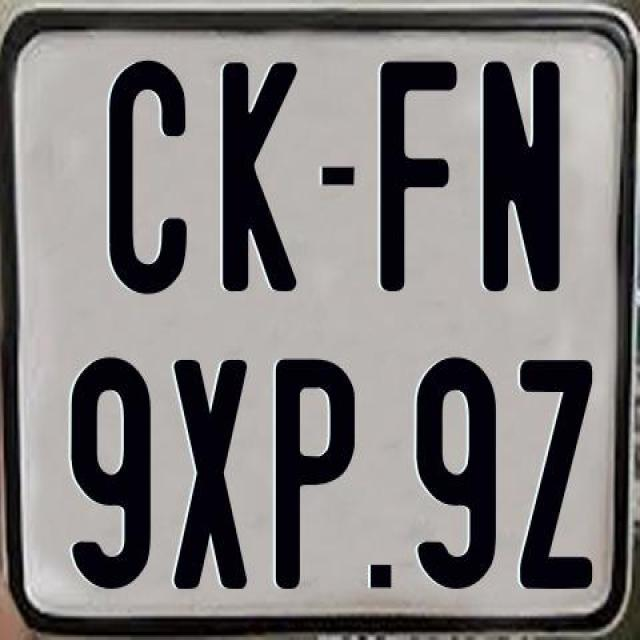9: (416, 352, 496, 594), (68, 352, 148, 584)
C: (110, 56, 194, 296)
F: (377, 59, 459, 291)
K: (222, 62, 306, 298)
N: (480, 61, 566, 293)
P: (272, 353, 358, 584)
X: (173, 360, 250, 592)
Z: (518, 360, 598, 592)
